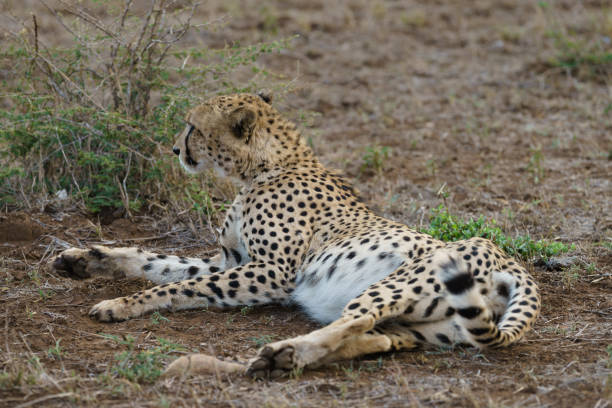cheetah: (159, 87, 304, 186)
